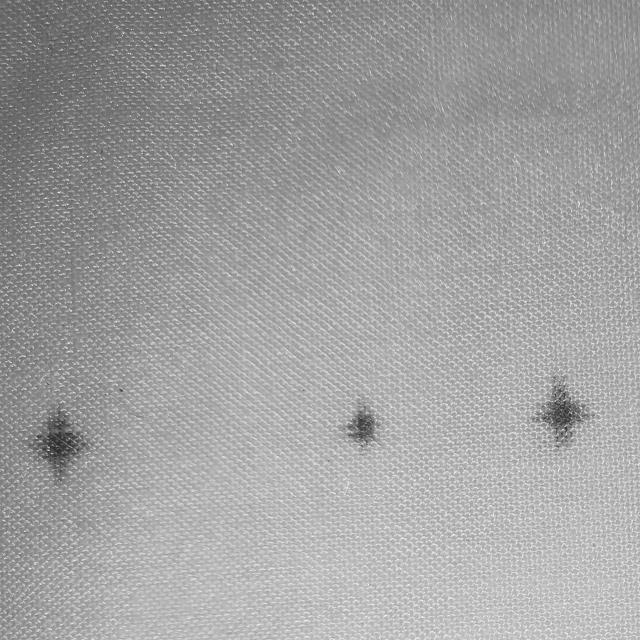Stain: (29, 404, 88, 481), (535, 375, 592, 446), (345, 398, 381, 448)
